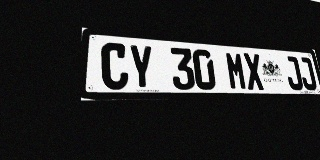0: (192, 49, 216, 90)
3: (170, 47, 195, 90)
C: (101, 42, 129, 90)
J: (283, 56, 304, 90), (297, 57, 318, 90)
M: (225, 51, 248, 90)
X: (242, 53, 265, 90)
Y: (128, 44, 155, 90)
